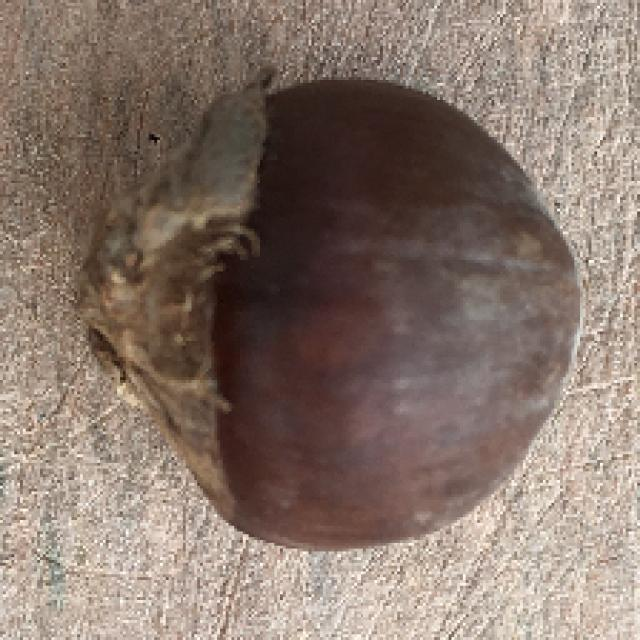damagedHazelnut: (77, 67, 596, 557)
